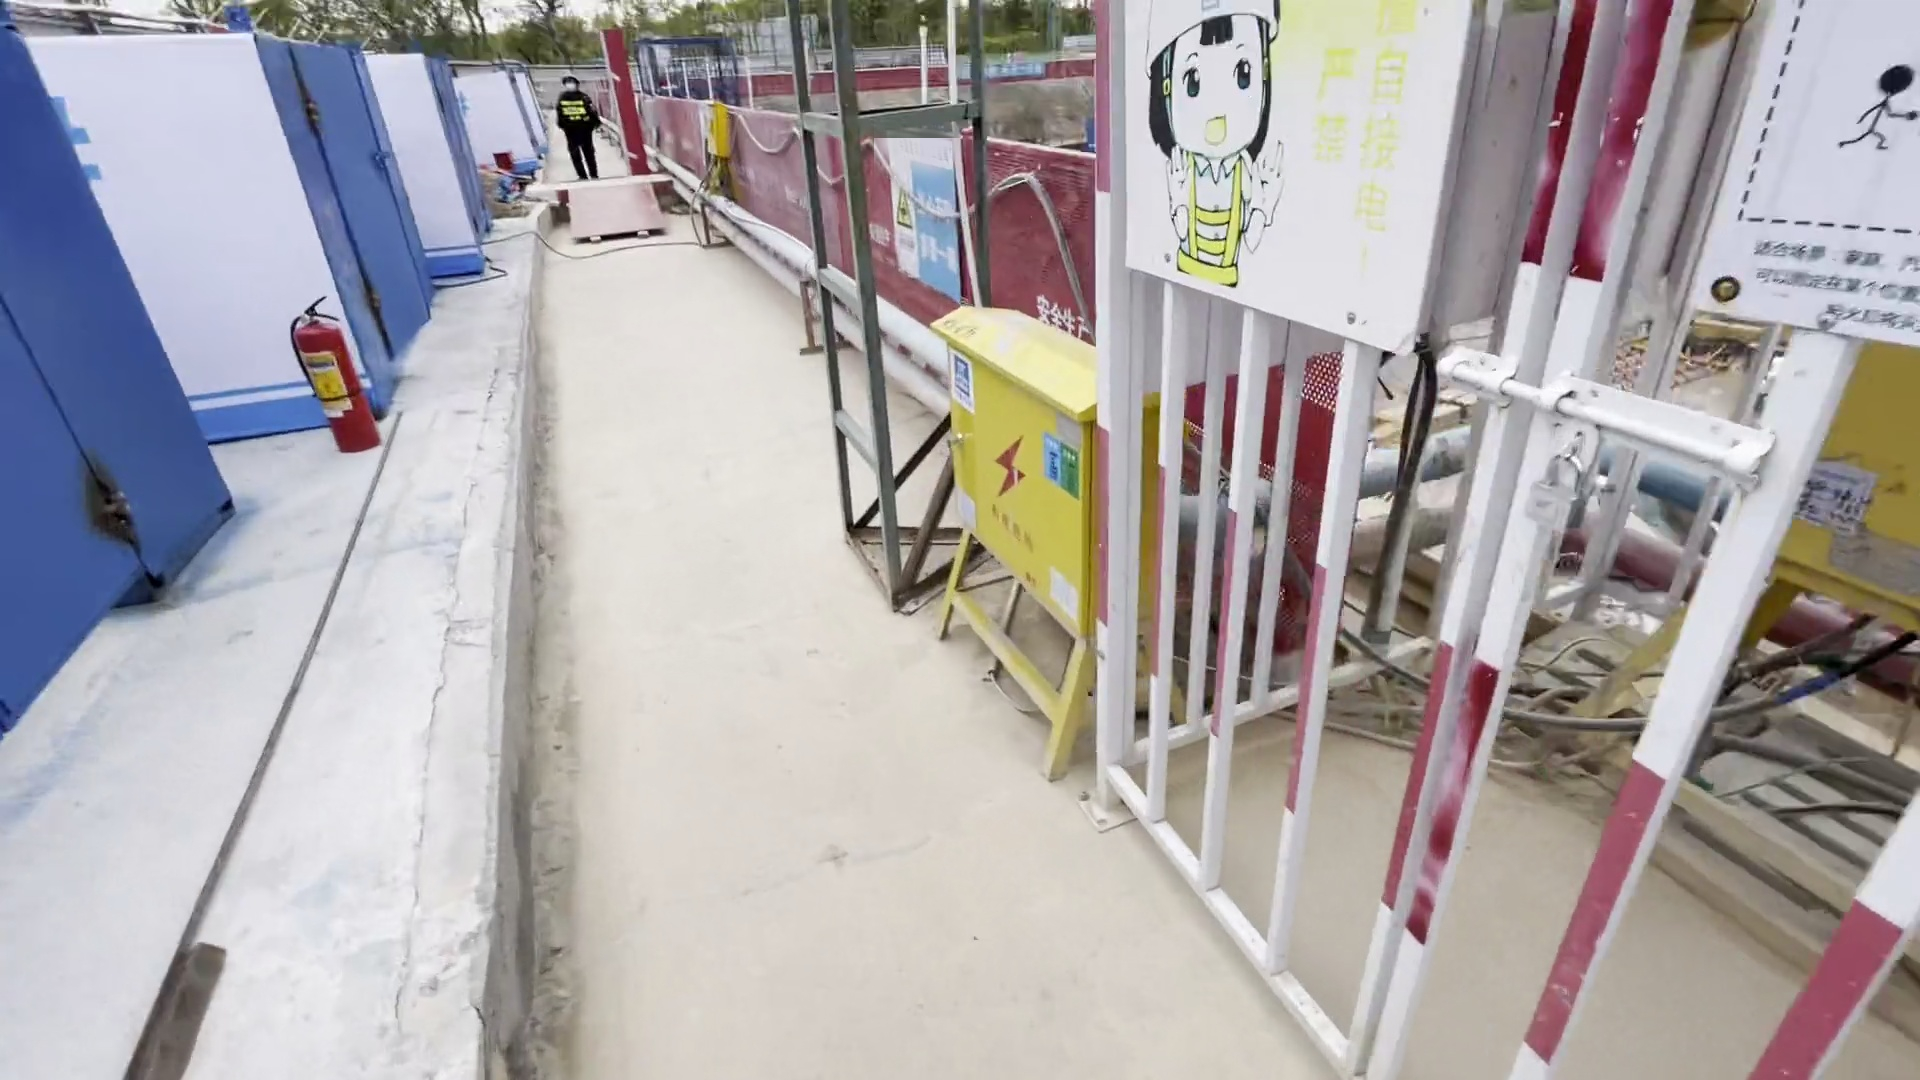board: (561, 180, 684, 254)
ebox: (919, 296, 1163, 739), (695, 94, 756, 172)
fence: (618, 97, 1117, 347), (695, 73, 921, 104)
helmet: (558, 72, 581, 84)
person: (547, 57, 613, 191)
slogan: (1119, 4, 1454, 392), (1679, 5, 1920, 394), (853, 116, 985, 303), (291, 347, 367, 428), (975, 54, 1052, 91)
vest: (554, 88, 591, 125)
